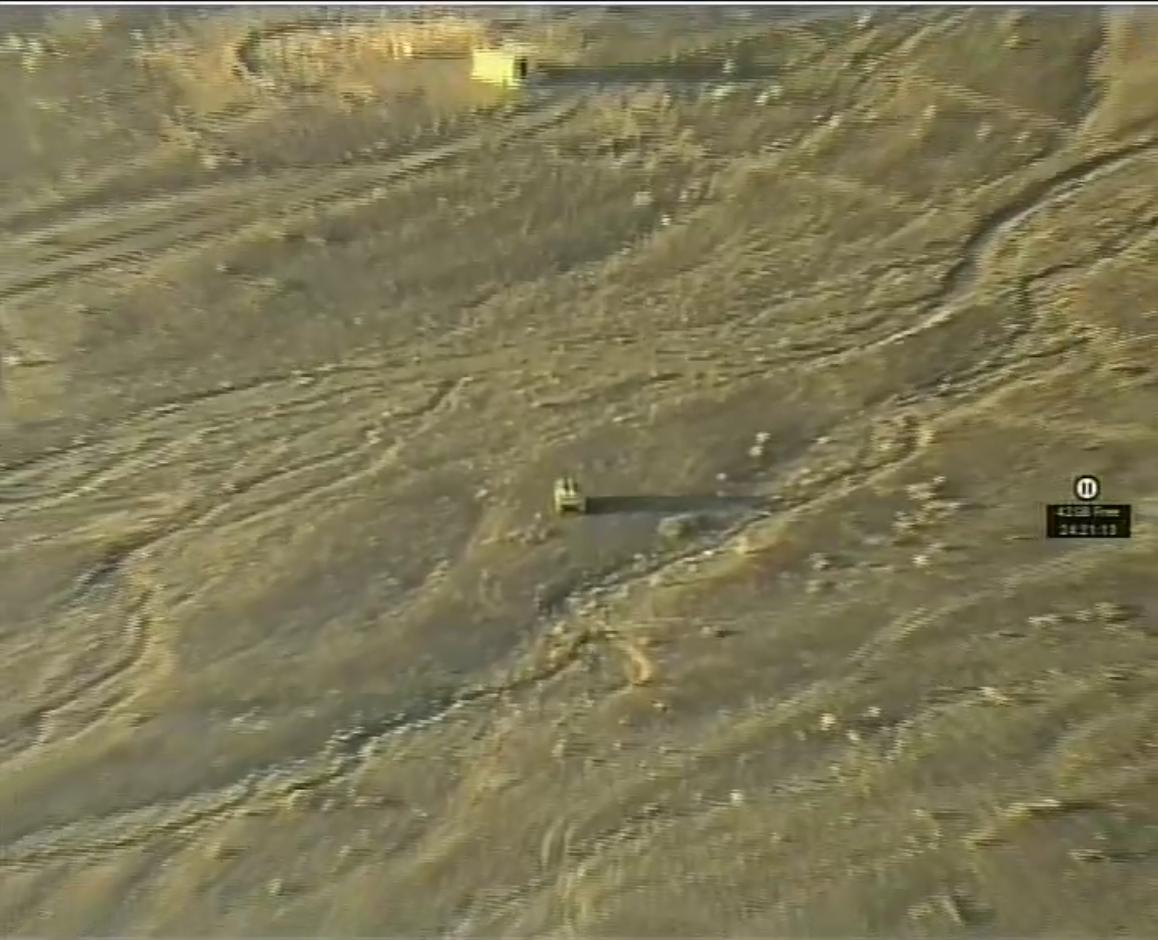armored_car: (549, 473, 591, 519)
